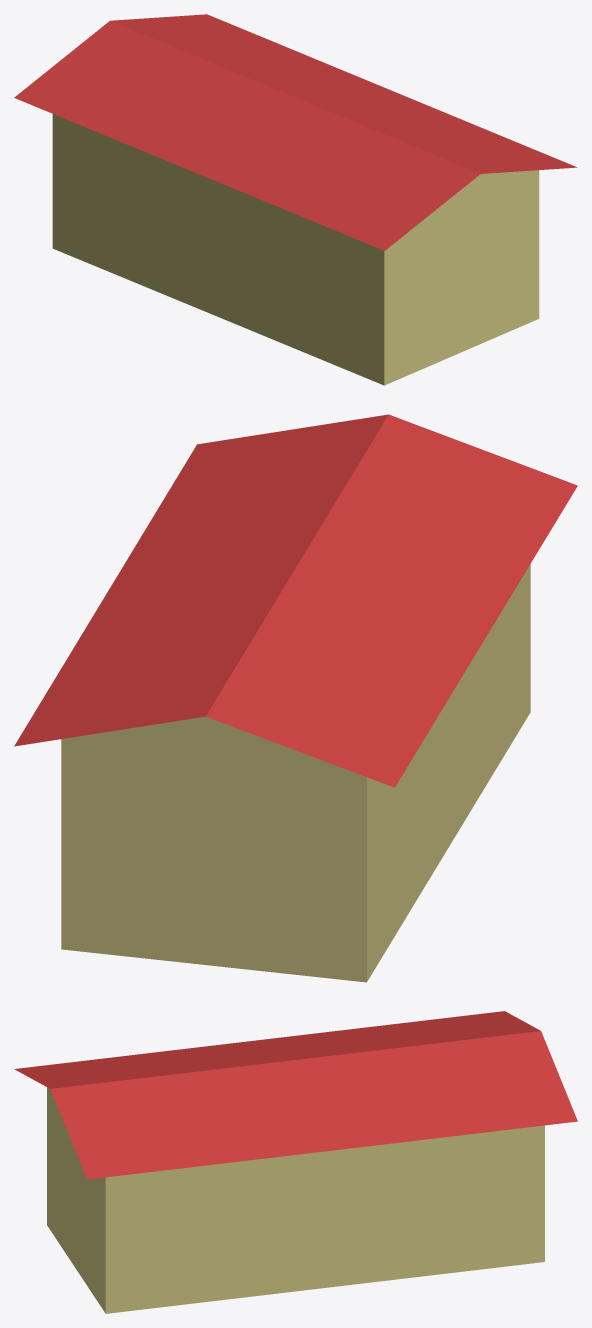
3 renders of one model, top to bottom at view 1: azimuth 30°, elevation 25°; view 2: azimuth 150°, elevation 25°; view 3: azimuth 270°, elevation 25°, orthographic. The views are drawn at different scales.
Size of the model in its own units: 22.28 by 31.5 by 11.3.
